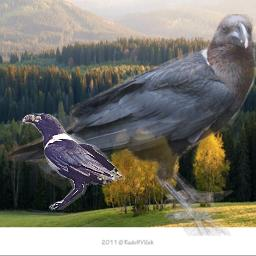Crow: (8, 14, 256, 236), (22, 113, 126, 210)
